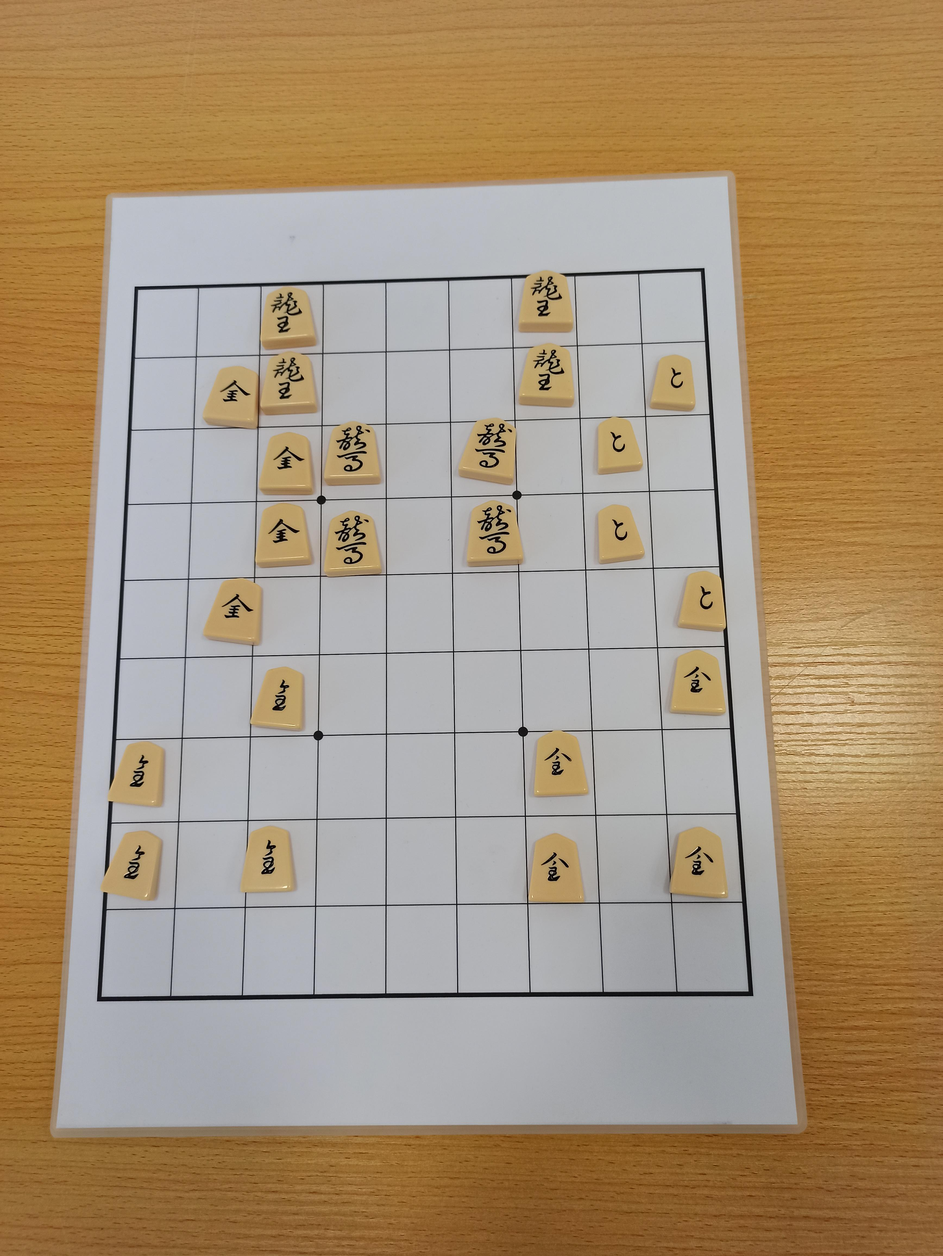board: (99, 271, 751, 998)
